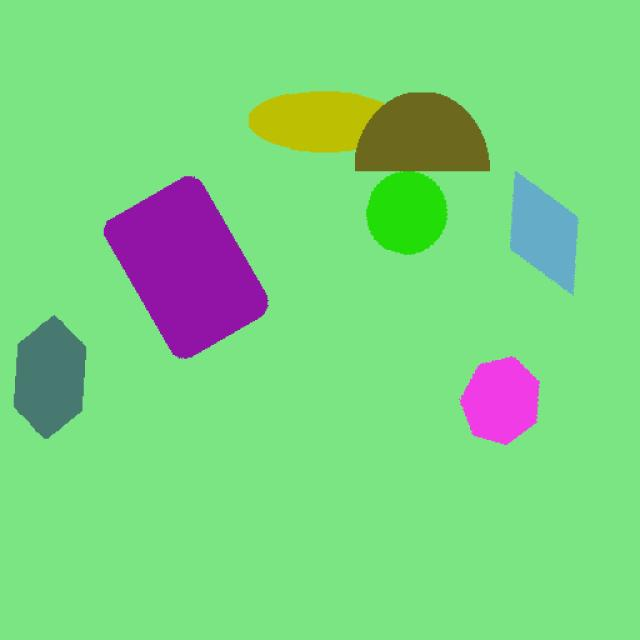Circle: (357, 170, 461, 268)
Heptagon: (452, 344, 538, 456)
Hexagon: (12, 314, 96, 436)
Kite: (501, 164, 592, 305)
Oval: (243, 86, 396, 156)
Rectangle: (87, 160, 289, 368)
Semicircle: (352, 79, 502, 189)
